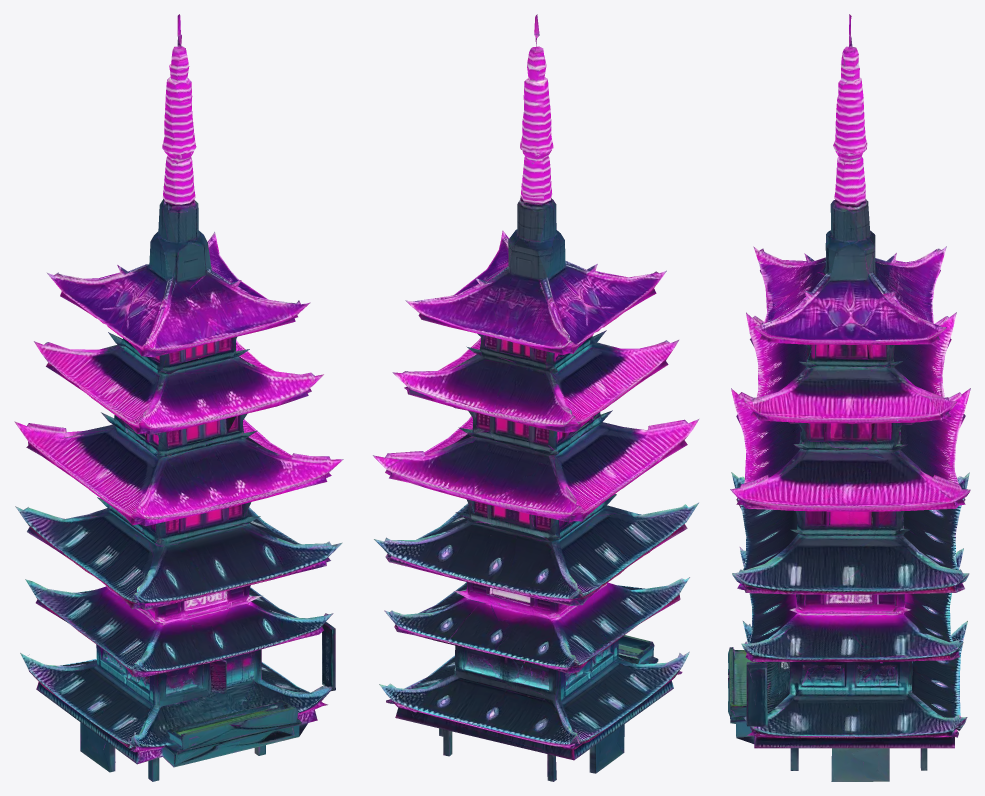
File: building-pagoda.glb
3 views of the same model, side by side, from view 1: azimuth 30°, elevation 25°; view 2: azimuth 150°, elevation 25°; view 3: azimuth 270°, elevation 25° (orthographic).
Size of the model in its own units: 0.5699 by 1.9 by 0.573.
Materials: 1 (1 with a texture image).
